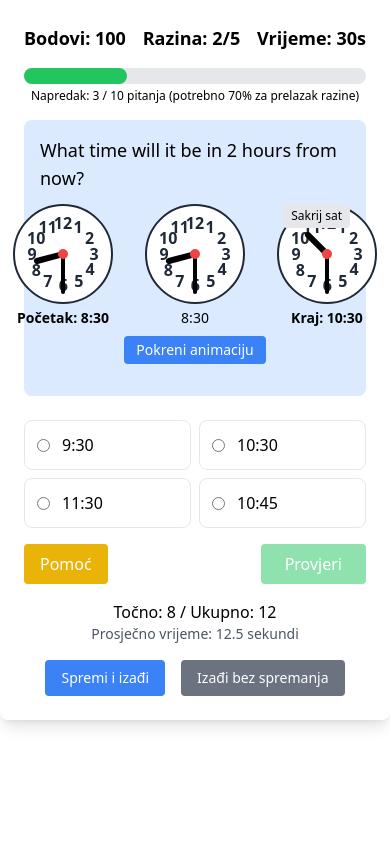
Test: GameScreen Component › selecting an option enables the check button
This screenshot has width=390, height=844.
Expected: the button "Provjeri" is disabled, [261, 544, 366, 584]
Note: Select an option
Step 1. Click the radio button labelled "9:30" → (44, 445), box [37, 438, 50, 452]
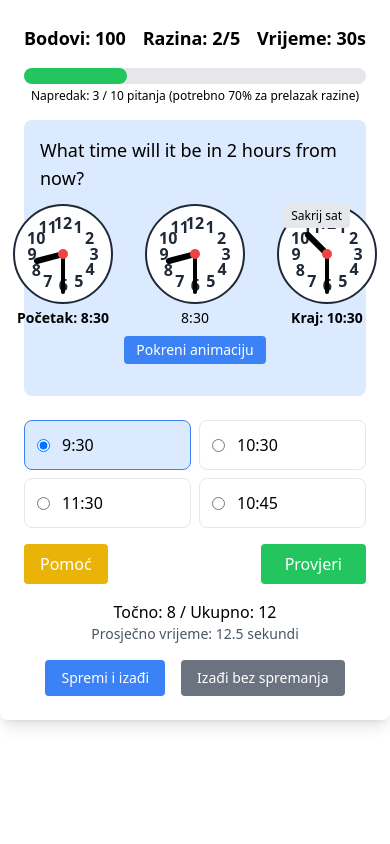
Now the button "Provjeri" is enabled, box [261, 544, 366, 584]
